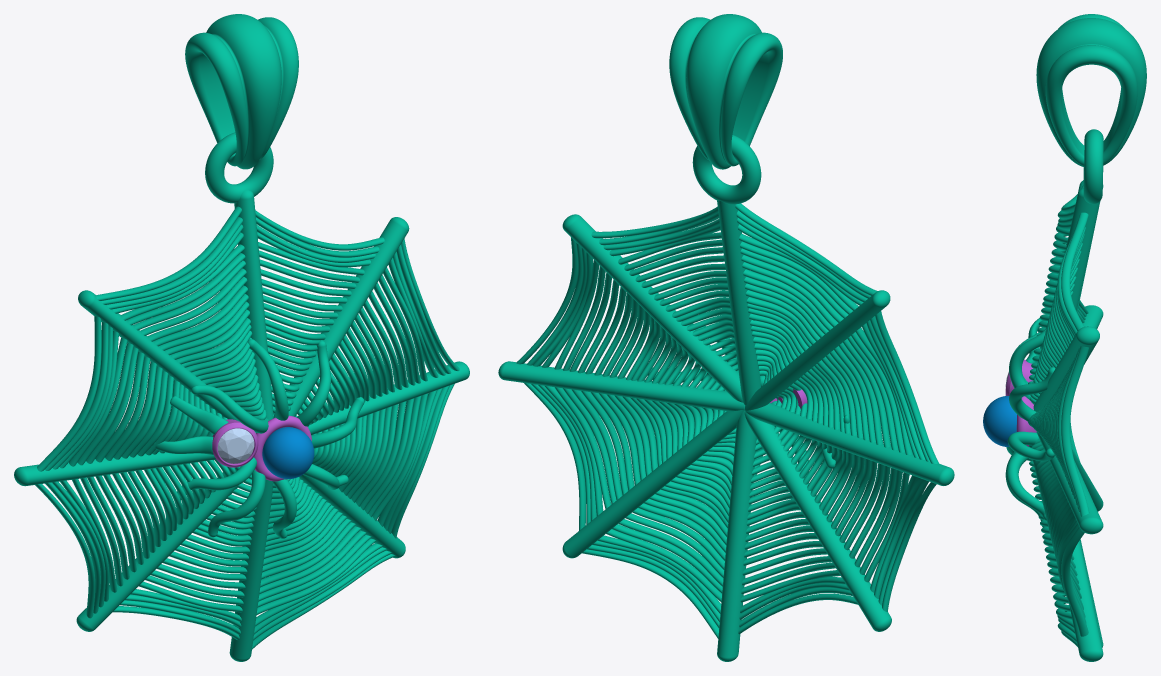
3 renders of one model, left to right at view 1: azimuth 30°, elevation 25°; view 2: azimuth 150°, elevation 25°; view 3: azimuth 270°, elevation 25°, orthographic.
Parts seen in each view (by area): view 1: PG-F (96).3dm; view 2: PG-F (96).3dm; view 3: PG-F (96).3dm.
Part boxes in pixels (x1,y1,x2,y2): PG-F (96).3dm: [14, 14, 469, 661]; PG-F (96).3dm: [498, 14, 954, 661]; PG-F (96).3dm: [983, 14, 1146, 661].
Size of the model in its own units: 2.33 by 3.16 by 0.7443.
